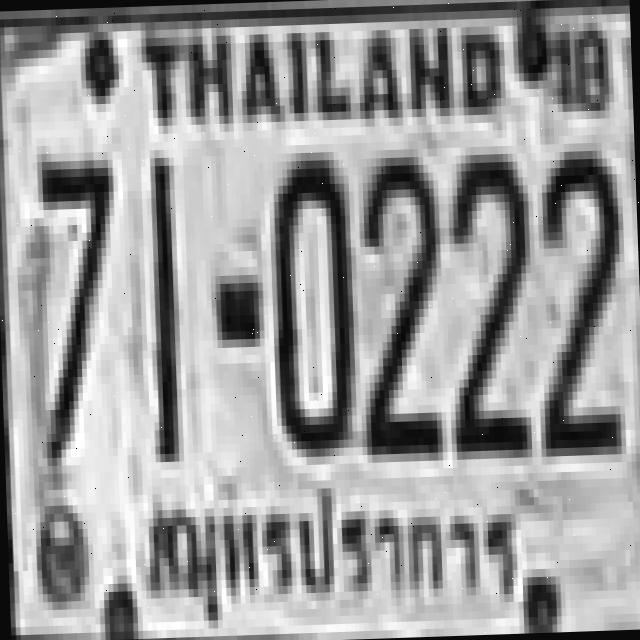0: (266, 147, 352, 446)
1: (143, 157, 181, 454), (145, 153, 179, 458)
2: (533, 142, 624, 448), (444, 144, 534, 452), (352, 148, 442, 455)
7: (32, 152, 118, 458)
SamutPrakan: (139, 476, 522, 627)
